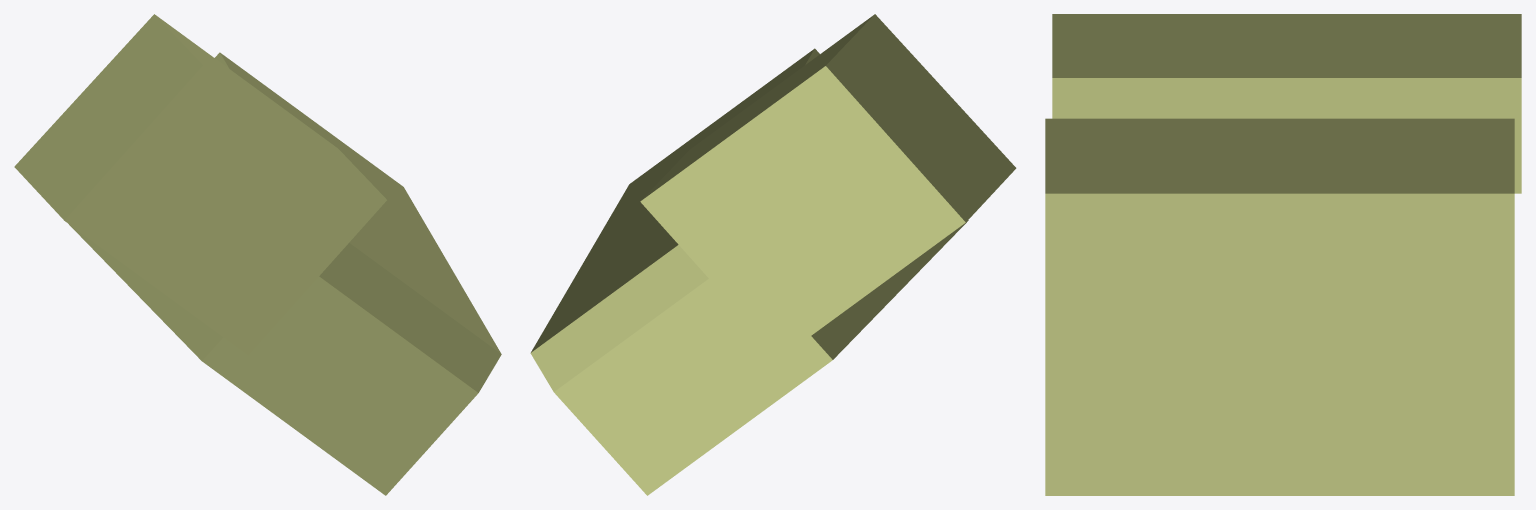
The picture shows the model from 3 angles, left to right: view 1: azimuth 30°, elevation 25°; view 2: azimuth 150°, elevation 25°; view 3: azimuth 270°, elevation 25°; orthographic projection. The views are drawn at different scales.
Parts seen in each view (by area): view 1: 0_1_2_3_0_0_0_0_2_2_1; view 2: 0_1_2_3_0_0_0_0_2_2_1; view 3: 0_1_2_3_0_0_0_0_2_2_1.
Boxes of the visible parts, x1,y1,x2,y2 form: 0_1_2_3_0_0_0_0_2_2_1: (14,14,501,495); 0_1_2_3_0_0_0_0_2_2_1: (530,14,1016,495); 0_1_2_3_0_0_0_0_2_2_1: (1045,14,1521,495).
Size of the model in its own units: 8.49 by 9.61 by 9.14.
